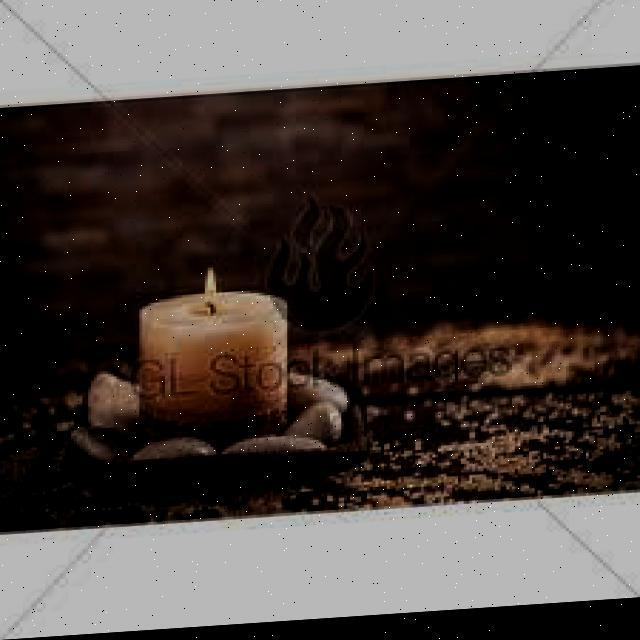Fire: (194, 258, 218, 314)
